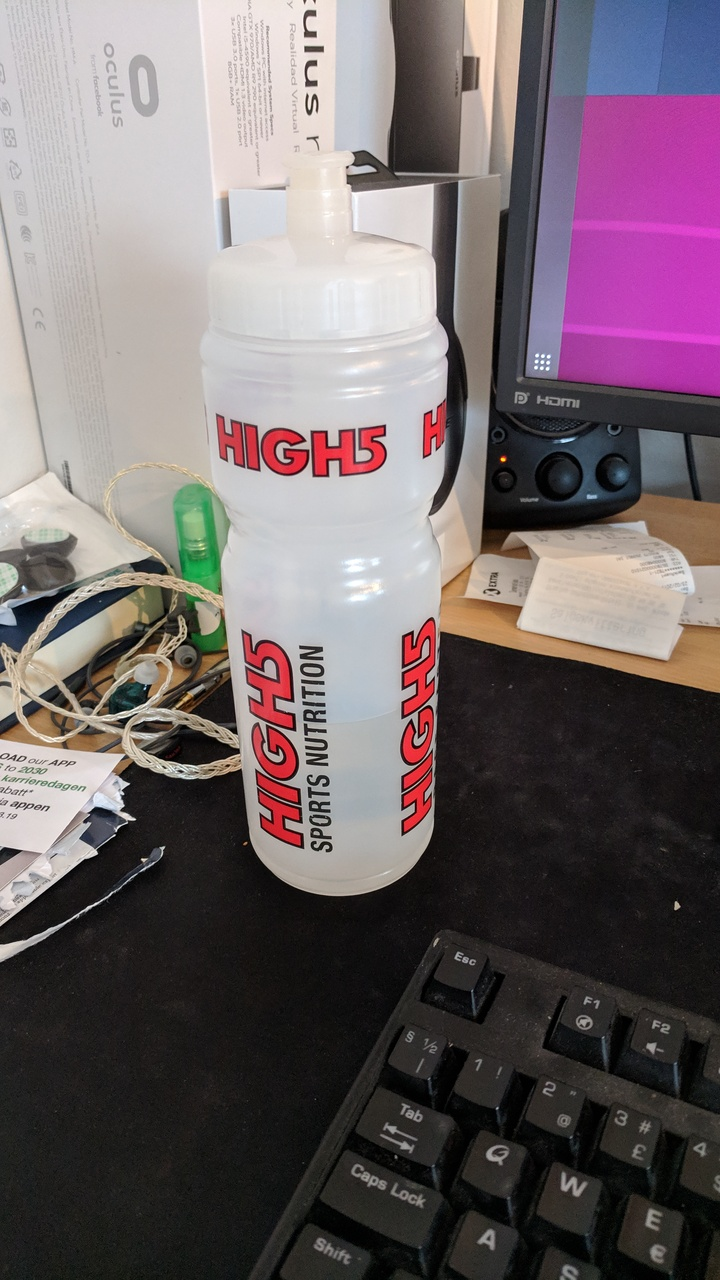high five bottle: (204, 156, 453, 898)
